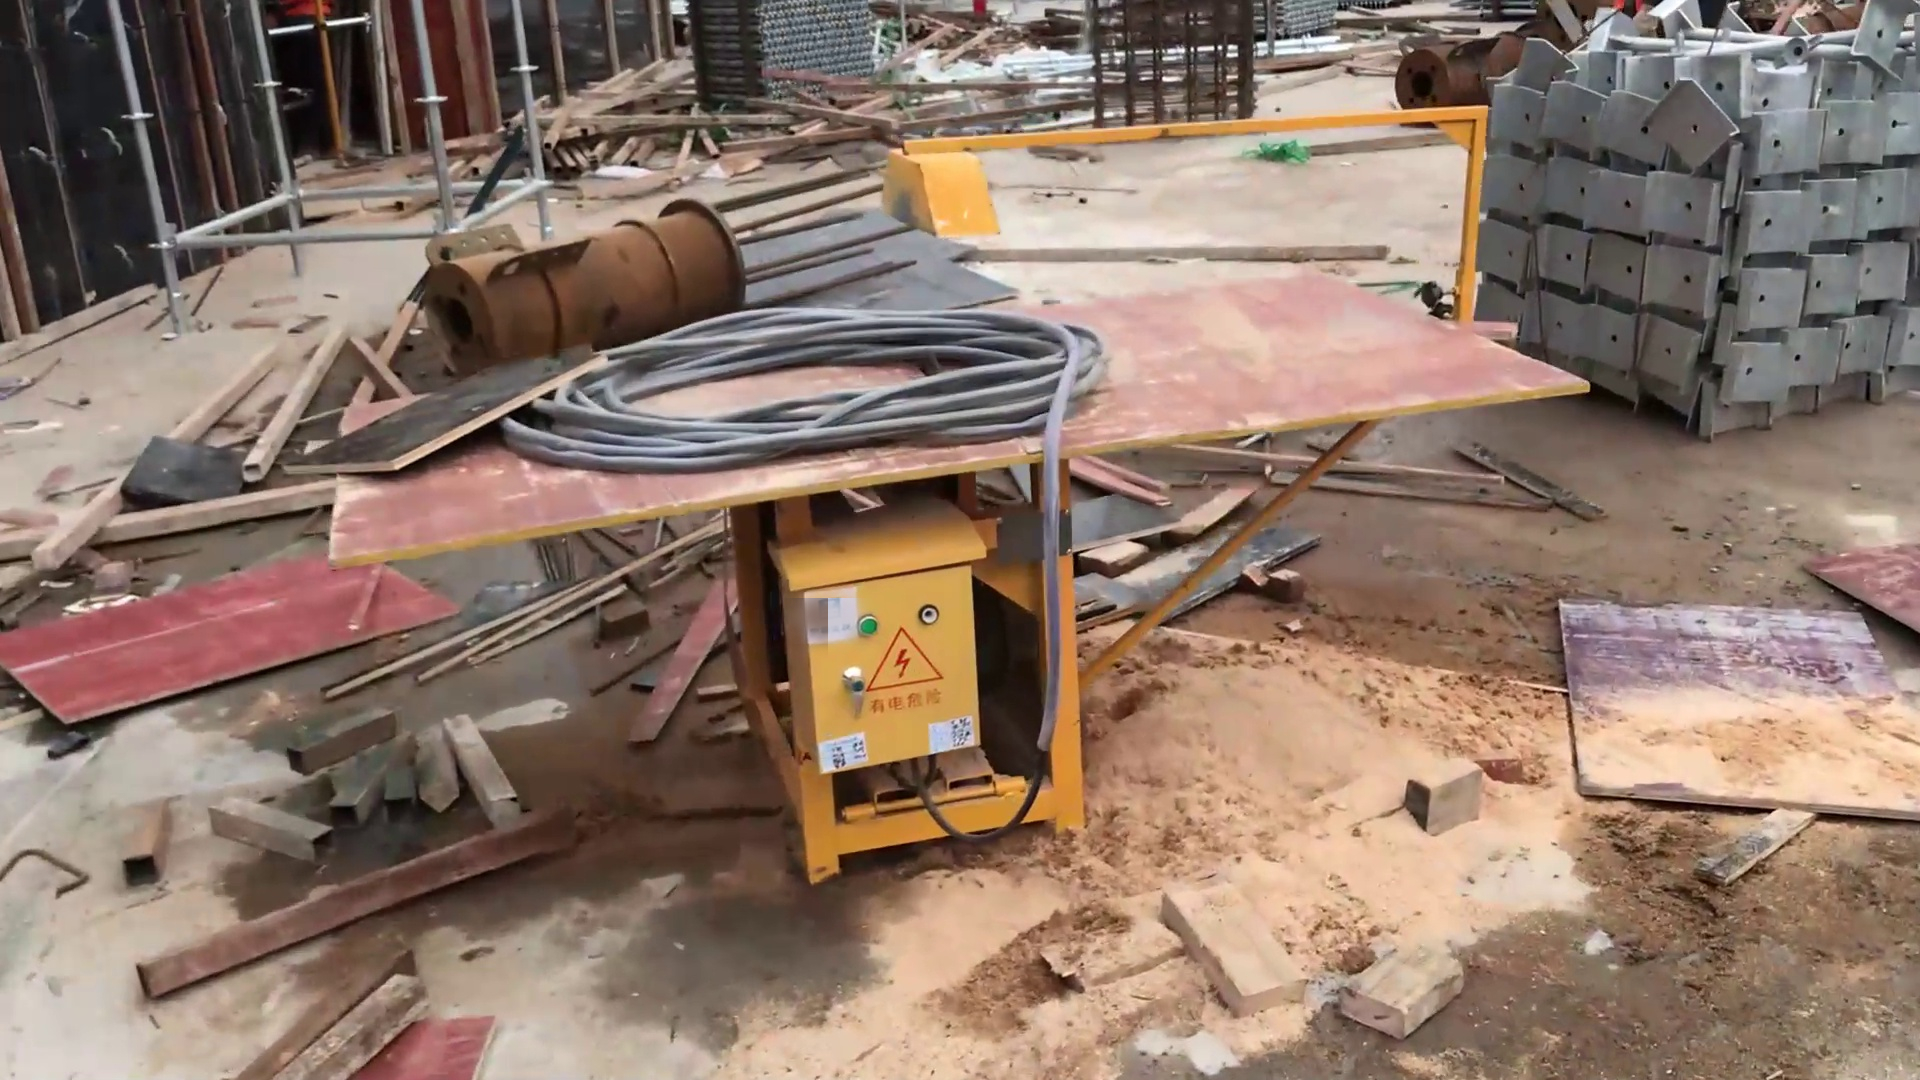board: (1551, 575, 1920, 843), (11, 550, 495, 707)
cutter: (315, 270, 1611, 891)
ebox: (771, 520, 1000, 779)
scaffold: (1485, 12, 1920, 440), (694, 1, 872, 123)
